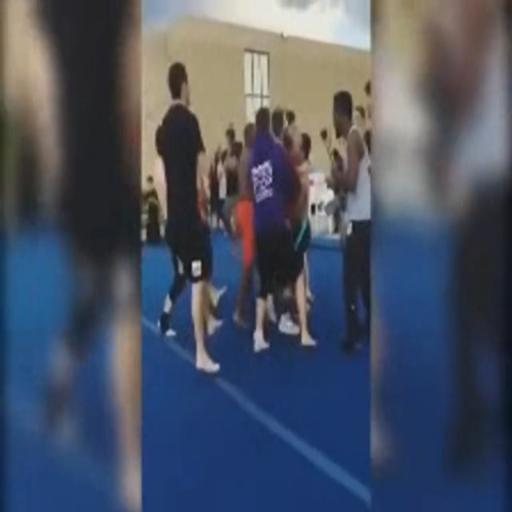nao-violencia: (212, 80, 326, 354)
